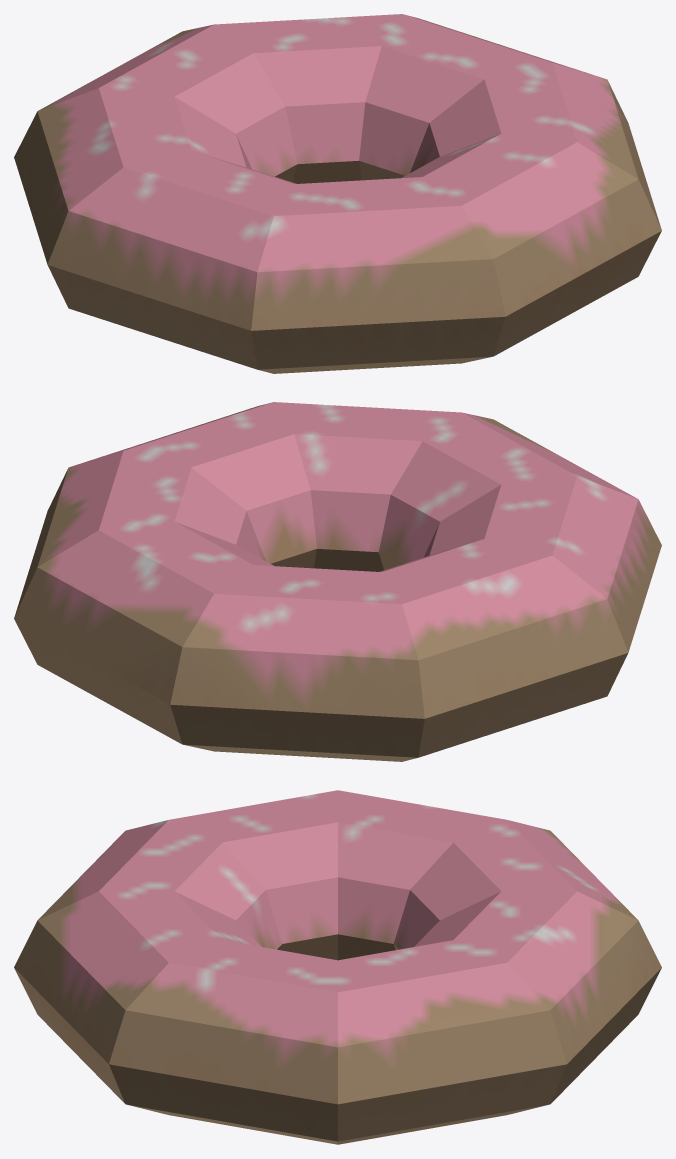
Rendered from bagel_withUV.fbx.
3 renders of one model, top to bottom at view 1: azimuth 30°, elevation 25°; view 2: azimuth 150°, elevation 25°; view 3: azimuth 270°, elevation 25°, orthographic. The views are drawn at different scales.
Parts seen in each view (by area): view 1: Torus.001; view 2: Torus.001; view 3: Torus.001.
Part boxes in pixels (bbox=[...]): Torus.001: bbox=[14, 14, 661, 373]; Torus.001: bbox=[14, 402, 661, 761]; Torus.001: bbox=[14, 790, 661, 1144].
Bounding box in the file's own units: 20.33 × 5.28 × 20.33.
